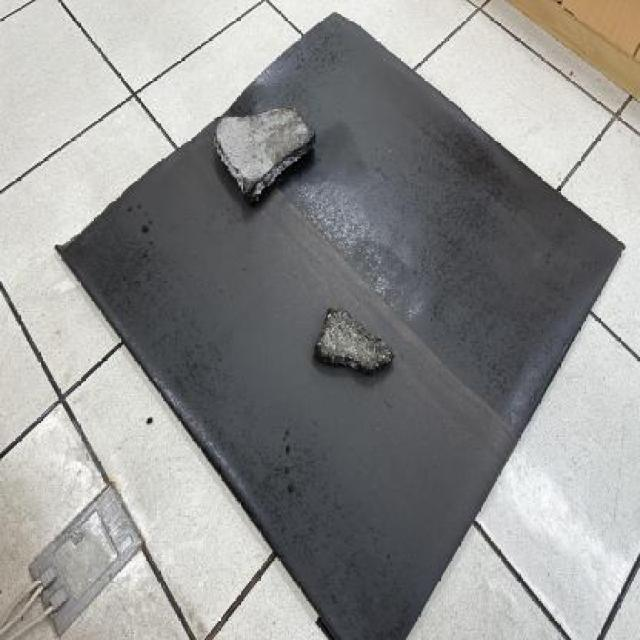Road Debris: (322, 310, 400, 366), (260, 102, 316, 160)
